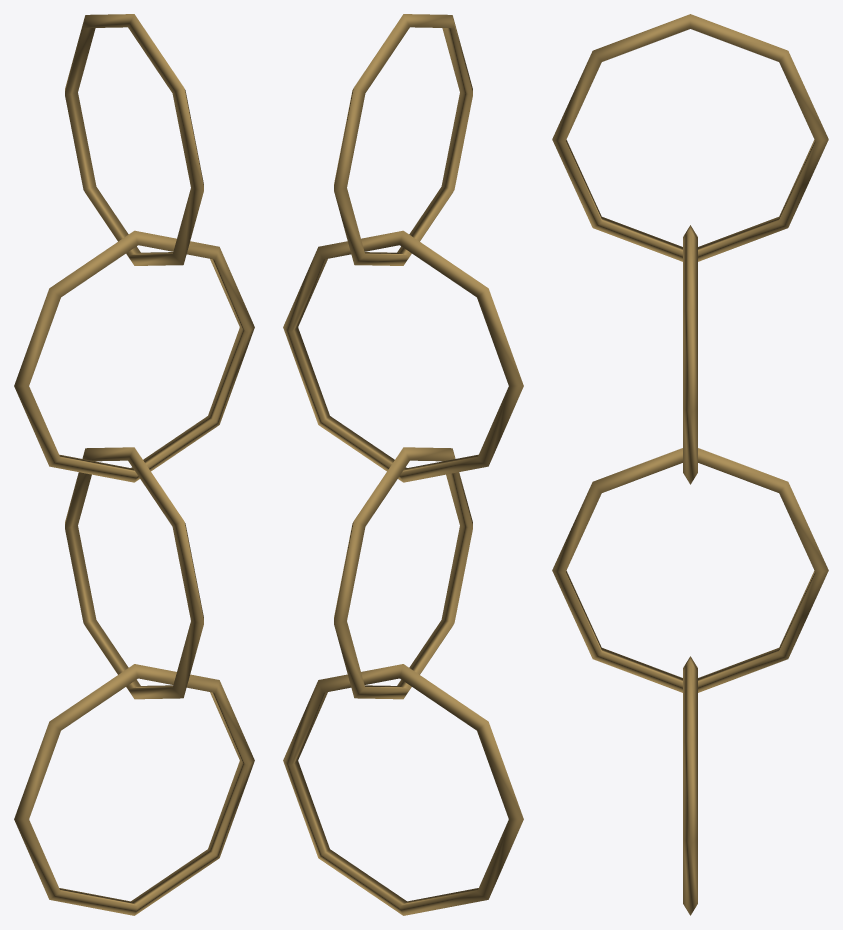
Rendered from LampRings.fbx.
3 views of the same model, side by side, from view 1: azimuth 30°, elevation 25°; view 2: azimuth 150°, elevation 25°; view 3: azimuth 270°, elevation 25° (orthographic).
Visible parts, largest first — view 1: LampRing, LampRing.002, LampRing.003, LampRing.001; view 2: LampRing, LampRing.002, LampRing.003, LampRing.001; view 3: LampRing.003, LampRing.001, LampRing, LampRing.002.
Boxes of the visible parts, <box> form: LampRing: <box>14,664,254,915</box>; LampRing.002: <box>14,230,254,482</box>; LampRing.003: <box>65,14,203,265</box>; LampRing.001: <box>65,447,203,699</box>; LampRing: <box>283,664,523,915</box>; LampRing.002: <box>283,230,523,482</box>; LampRing.003: <box>334,14,472,265</box>; LampRing.001: <box>334,447,472,699</box>; LampRing.003: <box>552,14,828,261</box>; LampRing.001: <box>552,448,828,692</box>; LampRing: <box>683,656,697,915</box>; LampRing.002: <box>683,225,697,484</box>.
Size of the model in its own units: 12.8 by 45.8 by 12.8.
